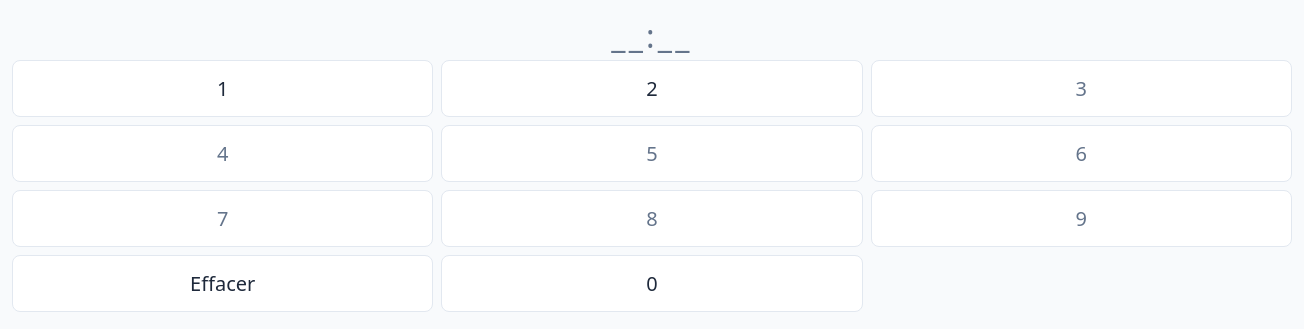
Test: RoutineTimeKeypad › affiche l'heure au fur et à mesure de la saisie
Check: the text named "Heure saisie" reads "__:__", box [611,14,693,57]
Click the button "0": (652, 284) [441,255,863,312]
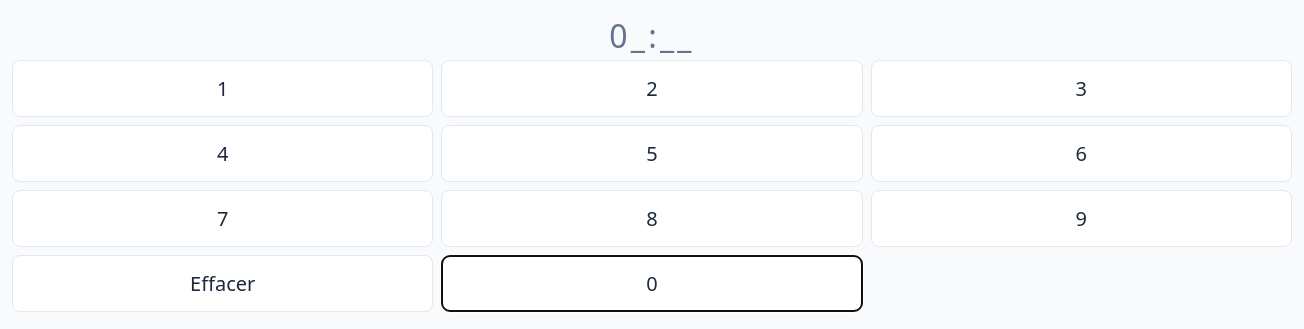
Check: the text named "Heure saisie" reads "0_:__", box [609,14,695,57]
Click the button "8": (652, 218) [441,190,863,247]
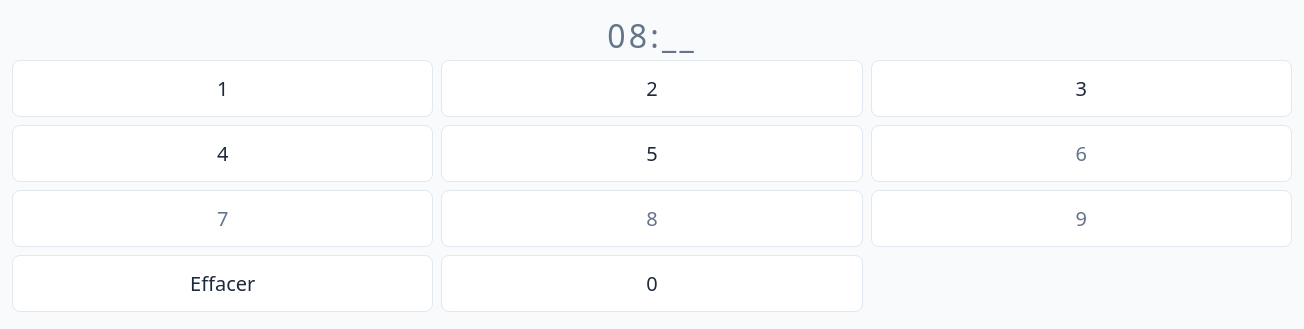
Check: the text named "Heure saisie" reads "08:__", box [607,14,697,57]
